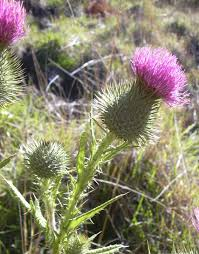bull thistle: (92, 43, 192, 150), (1, 1, 32, 107)
